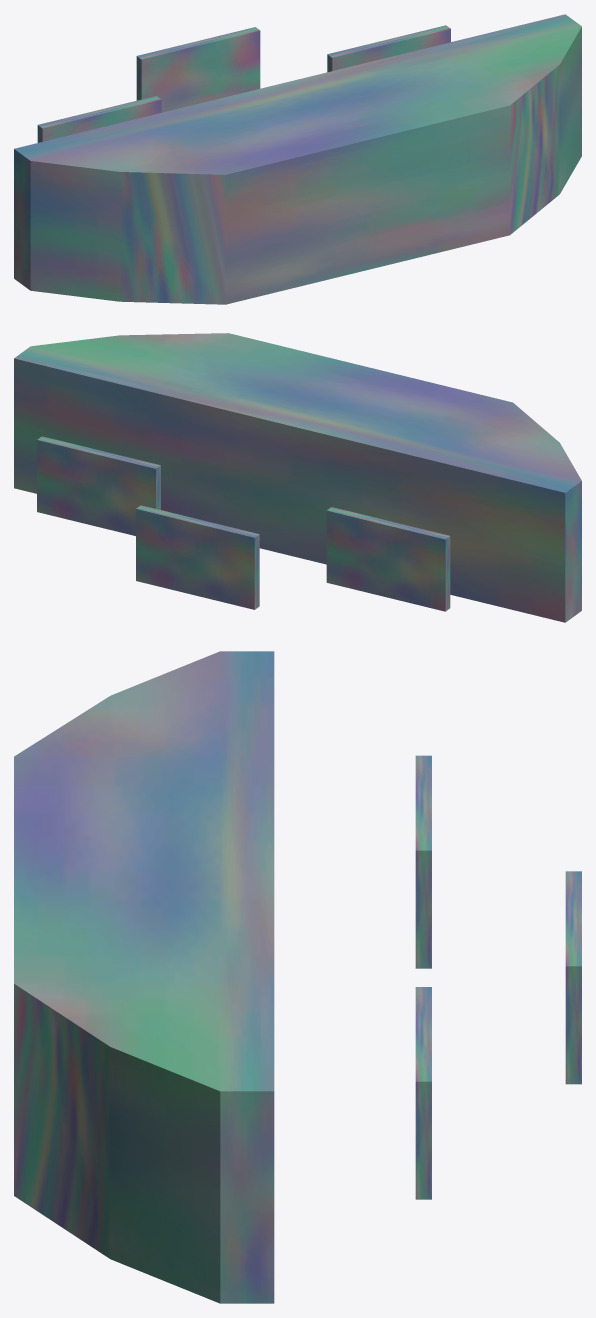
File: transition_temporary.dae
3 views of the same model, one above another, from view 1: azimuth 30°, elevation 25°; view 2: azimuth 150°, elevation 25°; view 3: azimuth 270°, elevation 25° (orthographic). The views are drawn at different scales.
Parts seen in each view (by area): view 1: main_ringShape, floating_plateShape; view 2: main_ringShape, floating_plateShape; view 3: main_ringShape, floating_plateShape.
Boxes of the visible parts, box(x1,y1,x2,y2) form: main_ringShape: box(14, 14, 581, 304); floating_plateShape: box(37, 25, 450, 142); main_ringShape: box(14, 333, 581, 622); floating_plateShape: box(37, 436, 450, 611); main_ringShape: box(14, 651, 274, 1303); floating_plateShape: box(415, 755, 581, 1199).
Size of the model in its own units: 160 by 87.27 by 36.
Materials: 1 (1 with a texture image).
